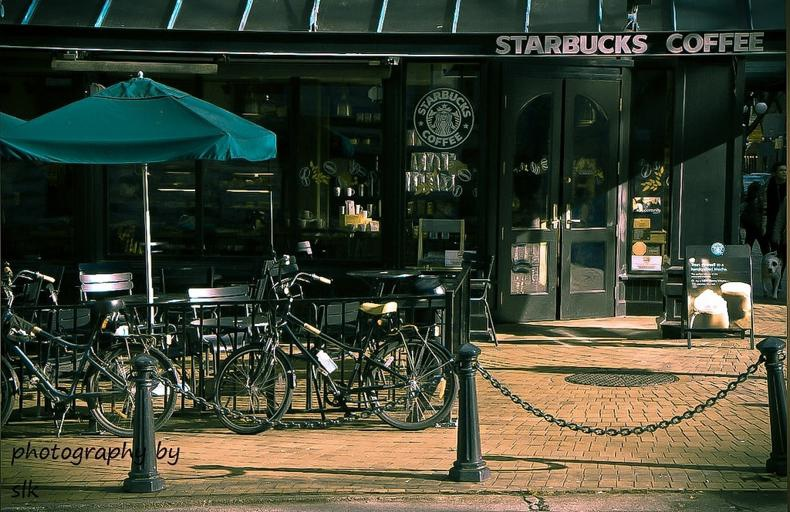non-vehicle: (206, 250, 457, 435), (0, 260, 181, 436)
